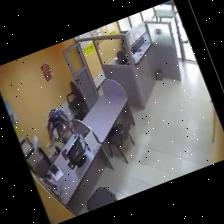person: (47, 108, 74, 145)
